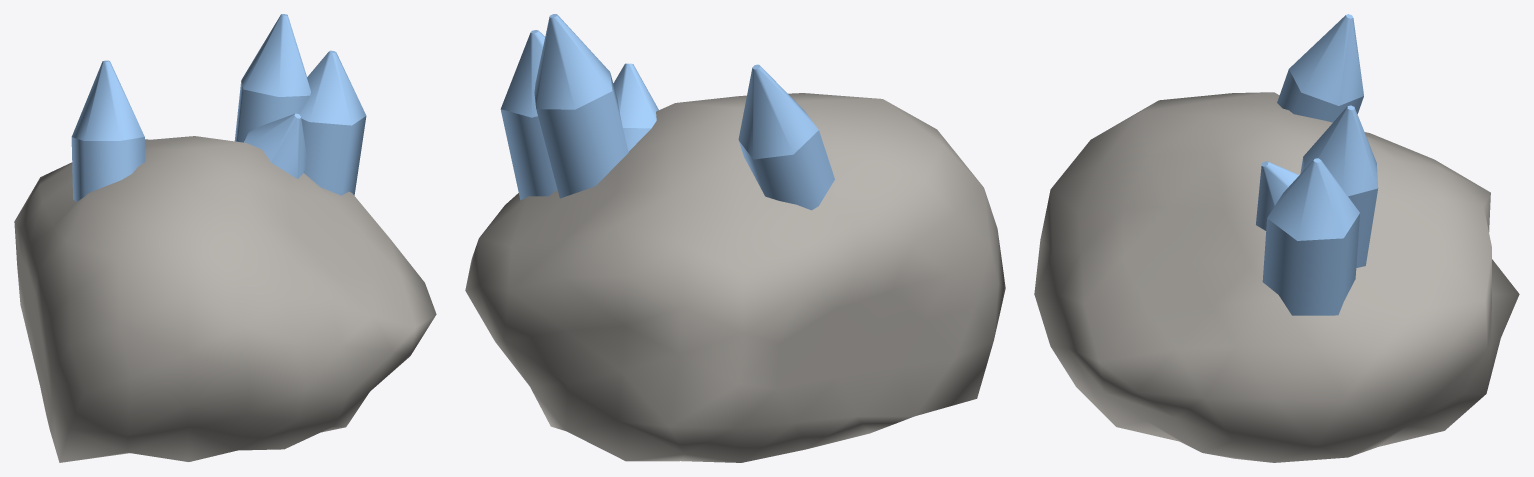
The model's file is res_ore.glb.
3 renders of one model, left to right at view 1: azimuth 30°, elevation 25°; view 2: azimuth 150°, elevation 25°; view 3: azimuth 270°, elevation 25°, orthographic. The views are drawn at different scales.
Parts seen in each view (by area): view 1: Ore; view 2: Ore; view 3: Ore.
Boxes of the visible parts, <box> form: Ore: <box>14,14,436,462</box>; Ore: <box>465,14,1005,462</box>; Ore: <box>1034,14,1519,462</box>.
Size of the model in its own units: 0.5712 by 0.4646 by 0.5915.
